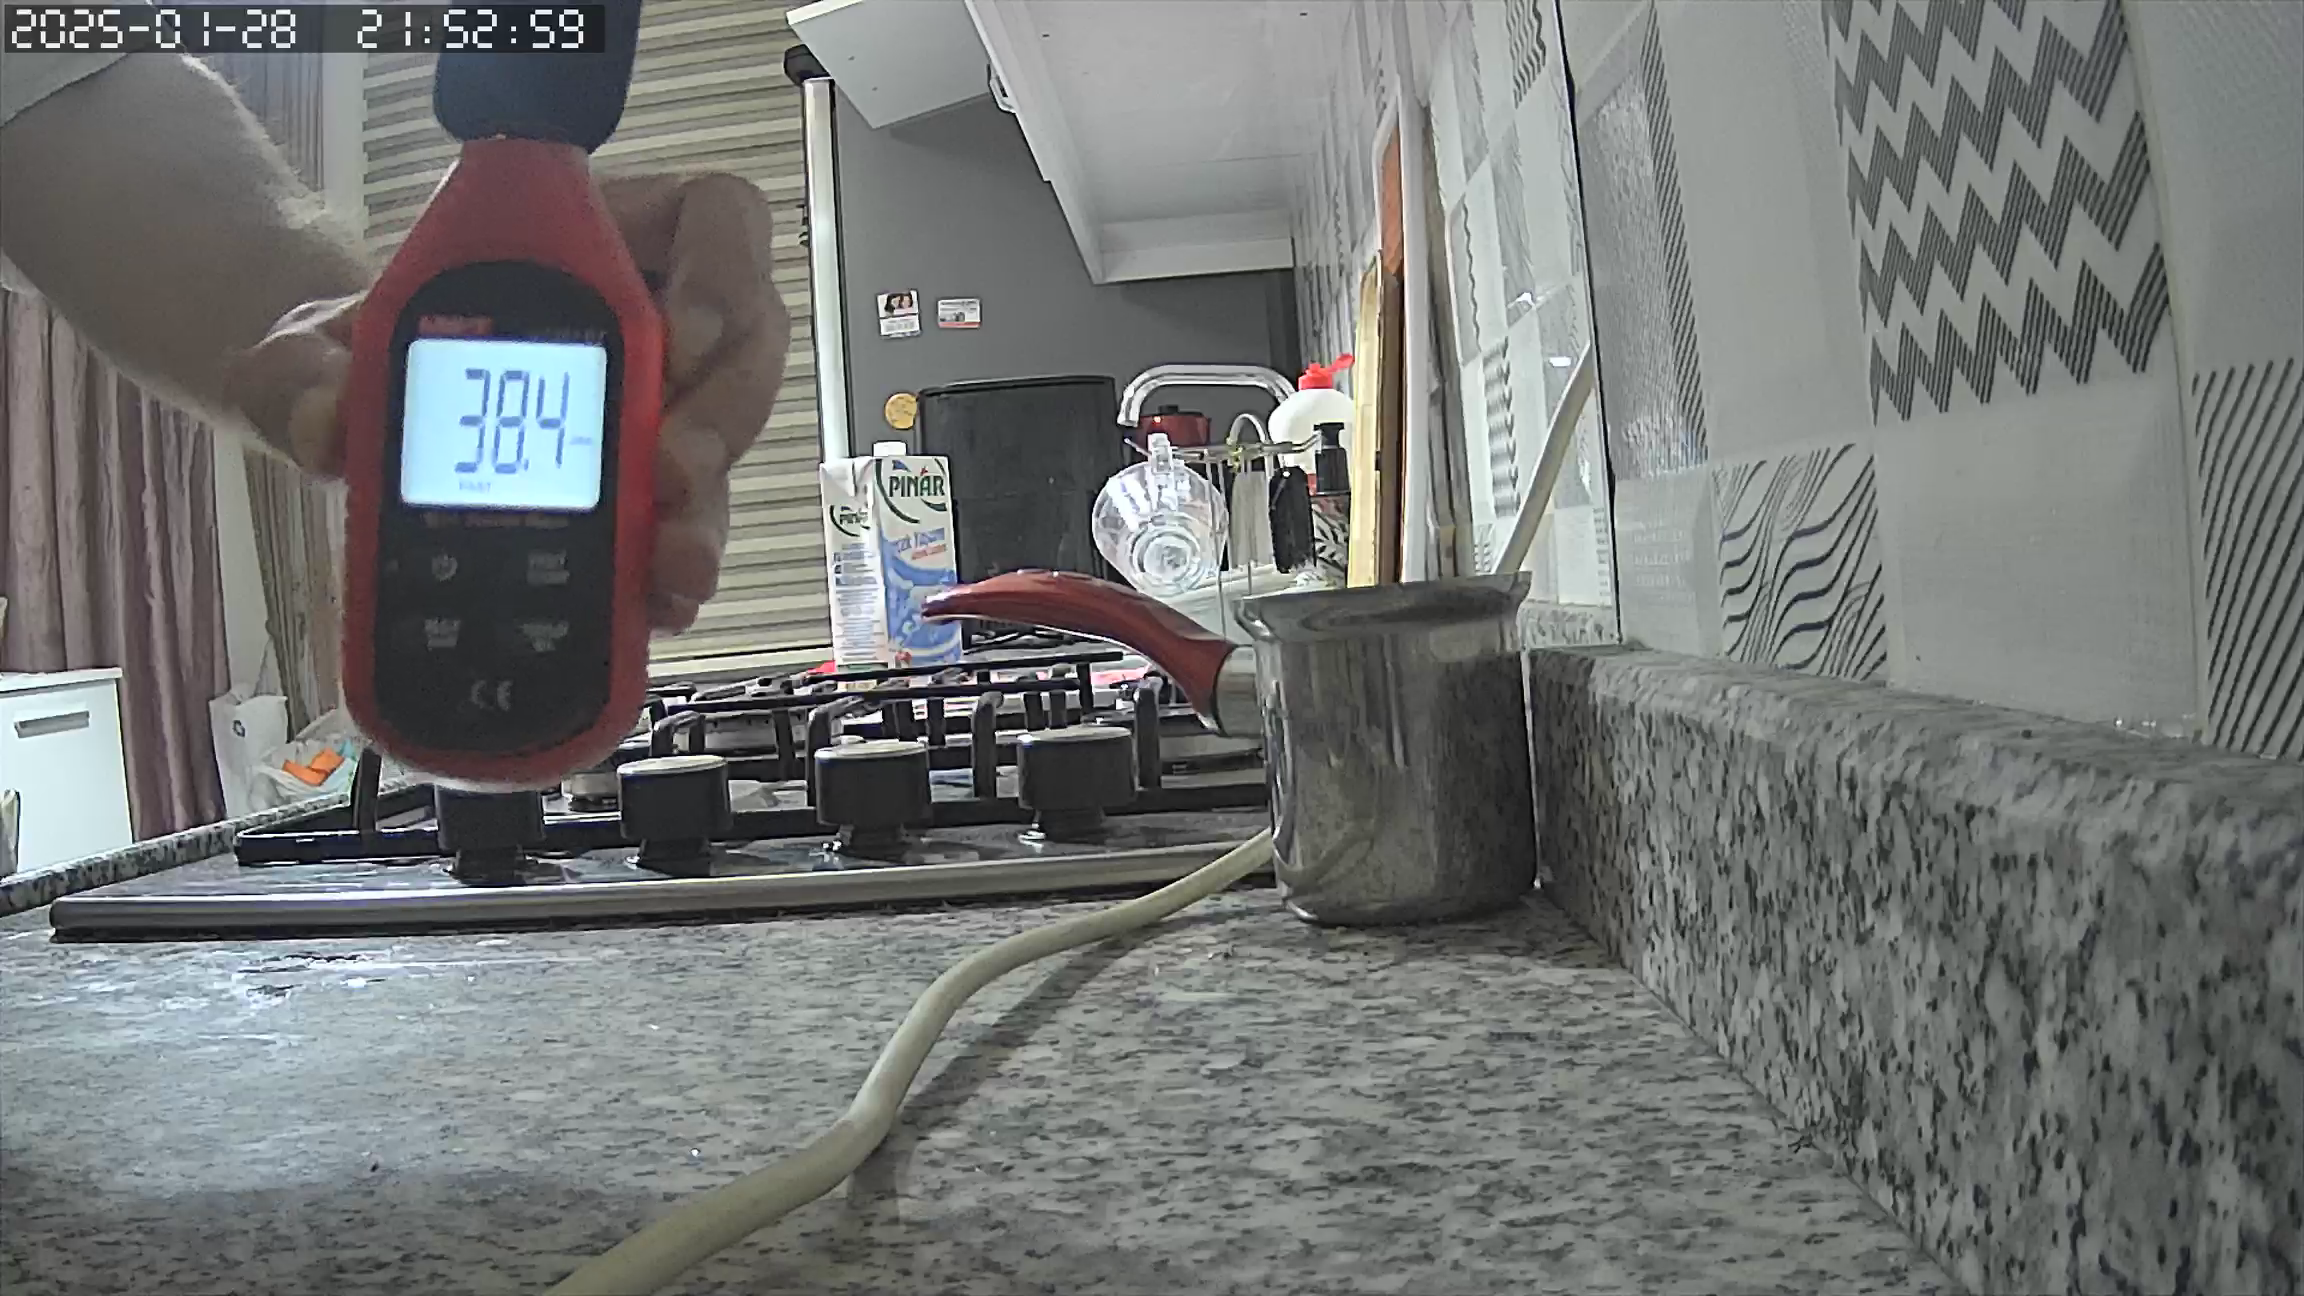screen: (402, 335, 604, 511)
